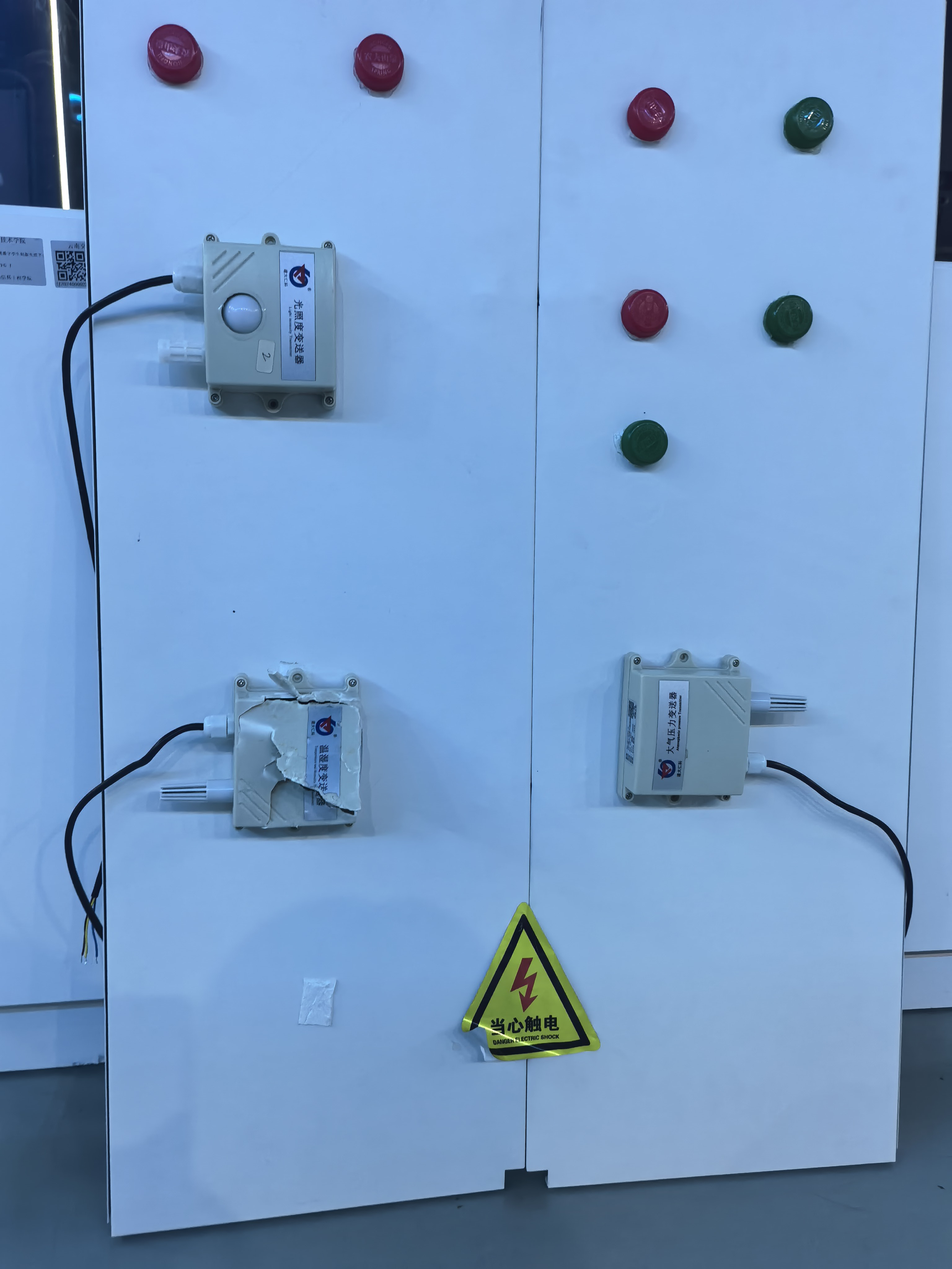red_warning: (335, 8, 441, 108), (126, 10, 240, 96), (608, 68, 691, 168), (610, 266, 698, 349)
sensor_damage: (135, 624, 399, 867)
